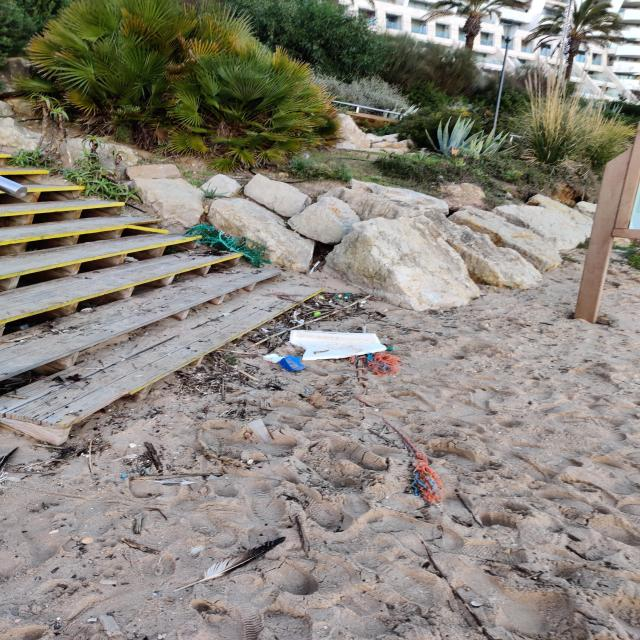litter: (365, 395, 436, 495), (281, 317, 391, 365)
